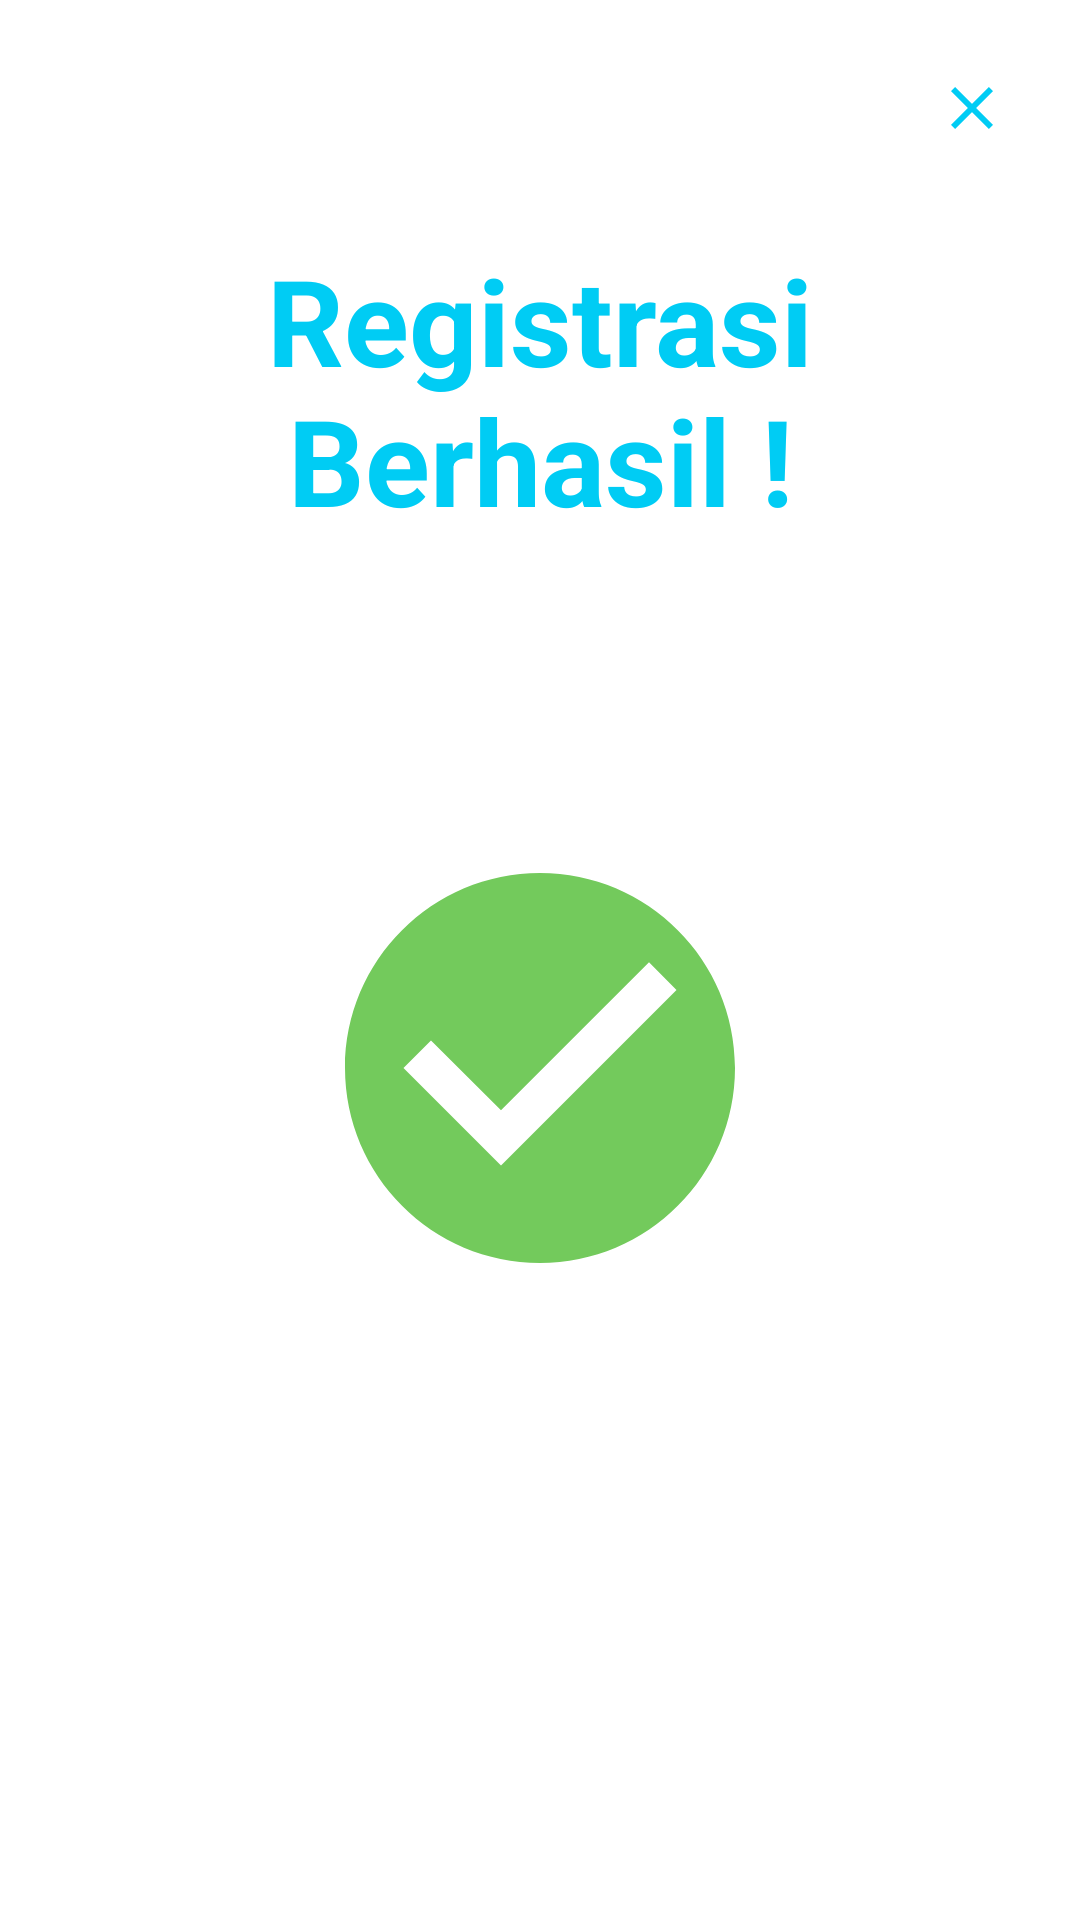

Icons on this 1080px x 1920px Android screen, each with its box as Rect(x1, y1, x2, y2):
close: Rect(951, 87, 993, 129)
